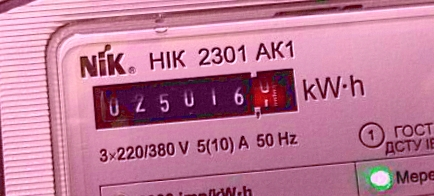0: (182, 84, 198, 108), (106, 95, 121, 118), (257, 73, 271, 94)
1: (207, 81, 220, 107), (261, 96, 270, 108)
2: (132, 90, 147, 113)
5: (157, 91, 170, 112)
6: (231, 82, 246, 108)
screen: (82, 57, 308, 136)
